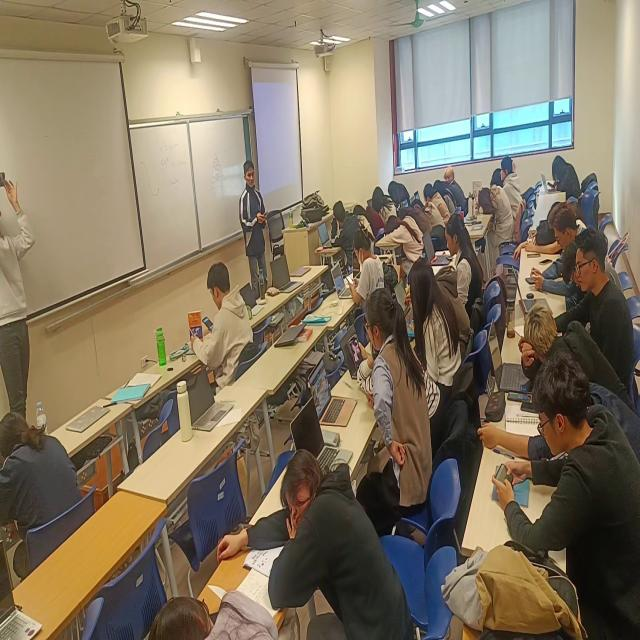raise_head: (500, 155, 523, 212), (442, 160, 467, 202)
sleep: (254, 453, 423, 640), (1, 375, 91, 564), (519, 292, 627, 392), (378, 212, 427, 261), (477, 181, 514, 228), (513, 217, 556, 257), (351, 200, 386, 235), (399, 204, 435, 236), (413, 195, 445, 228), (389, 180, 410, 207)
stand: (1, 148, 38, 418), (237, 150, 272, 292)
using_computer: (312, 281, 435, 494), (317, 199, 364, 261)
using_phone: (492, 342, 640, 640), (194, 248, 253, 396), (525, 205, 580, 289), (344, 222, 386, 301), (550, 152, 582, 199)
